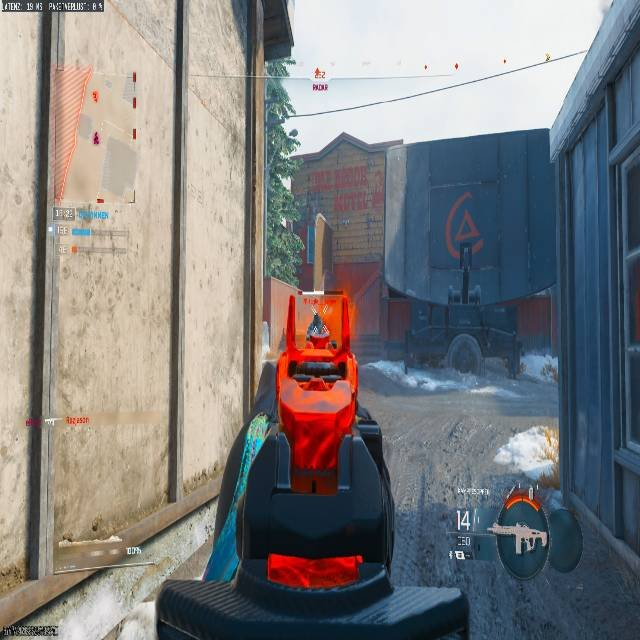head: (312, 315, 321, 327)
player: (305, 314, 329, 349)
